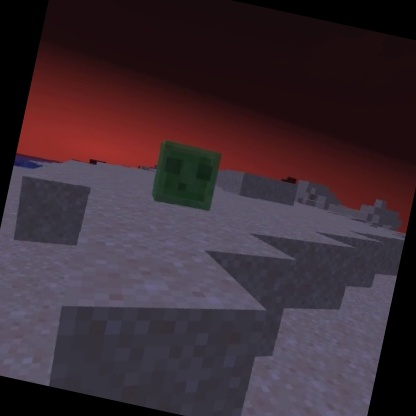slime: (145, 135, 227, 216)
